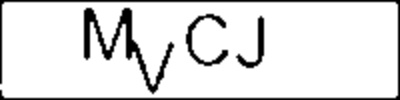C: (185, 10, 232, 69)
J: (233, 14, 270, 68)
M: (80, 5, 138, 61)
V: (129, 39, 177, 97)
